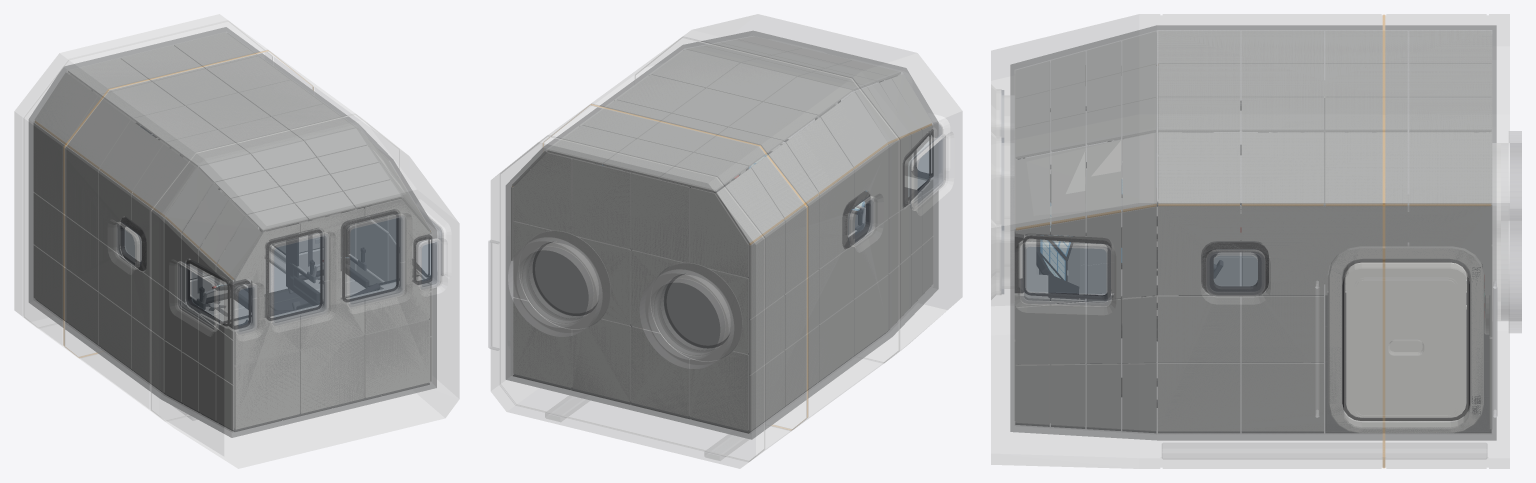
Rendered from ax_rover_01_cab2_combined.glb.
The picture shows the model from 3 angles, left to right: view 1: azimuth 30°, elevation 25°; view 2: azimuth 150°, elevation 25°; view 3: azimuth 270°, elevation 25°; orthographic projection. The views are drawn at different scales.
Parts seen in each view (by area): view 1: ext_hub_shell, pressure_vessel, ext_window_glass, endwall_front_00, endwall_front_10, endwall_front_20, ext_window_frames, window_glass_inner_3, window_glass_inner_4, endwall_front_11, endwall_front_01, endwall_front_21 (+69 smaller); view 2: ext_hub_shell, pressure_vessel, ext_suitport_rings, endwall_rear_12, endwall_rear_22, endwall_rear_20, endwall_rear_10, ext_suitport_hatch_r, ext_suitport_hatch_l, endwall_rear_00, endwall_rear_30, endwall_rear_02 (+55 smaller); view 3: ext_hub_shell, pressure_vessel, ext_hatch_door_1, hatch_door_1, hatch_coaming_1, ext_window_glass, panel_b7_f06, panel_b7_f07, panel_b7_f05, panel_b7_f04, panel_b6_f05, panel_b4_f04 (+62 smaller).
Boxes of the visible parts, box(x1,y1,x2,y2) form: ext_hub_shell: box(14, 14, 459, 468); pressure_vessel: box(29, 27, 436, 437); ext_window_glass: box(117, 214, 441, 333); endwall_front_00: box(235, 351, 299, 429); endwall_front_10: box(300, 335, 364, 413); endwall_front_20: box(365, 319, 429, 397); ext_window_frames: box(116, 214, 443, 334); window_glass_inner_3: box(274, 237, 319, 316); window_glass_inner_4: box(350, 219, 395, 298); endwall_front_11: box(300, 278, 364, 349); endwall_front_01: box(235, 296, 299, 365); endwall_front_21: box(365, 260, 429, 333); ext_hub_shell: box(491, 14, 962, 468); pressure_vessel: box(506, 31, 938, 439); ext_suitport_rings: box(508, 237, 733, 368); endwall_rear_12: box(631, 173, 689, 262); endwall_rear_22: box(572, 159, 630, 248); endwall_rear_20: box(572, 319, 630, 401); endwall_rear_10: box(631, 326, 689, 415); ext_suitport_hatch_r: box(654, 279, 724, 354); ext_suitport_hatch_l: box(523, 247, 593, 322); endwall_rear_00: box(689, 351, 748, 430); endwall_rear_30: box(513, 298, 571, 387); endwall_rear_02: box(689, 187, 748, 277); ext_hub_shell: box(991, 14, 1509, 468); pressure_vessel: box(1010, 25, 1496, 440); ext_hatch_door_1: box(1344, 263, 1468, 426); hatch_door_1: box(1346, 262, 1466, 417); hatch_coaming_1: box(1328, 245, 1483, 432); ext_window_glass: box(1001, 90, 1263, 304); panel_b7_f06: box(1325, 132, 1407, 203); panel_b7_f07: box(1409, 132, 1491, 203); panel_b7_f05: box(1242, 132, 1323, 203); panel_b7_f04: box(1158, 132, 1239, 203); panel_b6_f05: box(1242, 206, 1323, 294); panel_b4_f04: box(1158, 363, 1239, 430).
Bounding box in the file's own units: 2.58 × 2.56 × 3.58.
